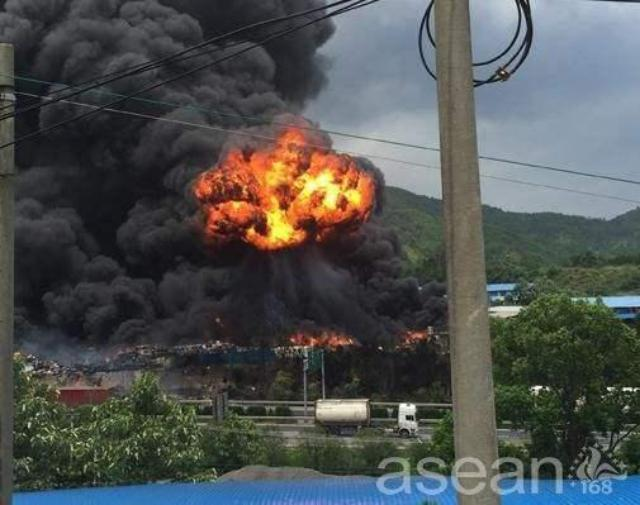fire: (202, 158, 368, 212), (250, 212, 308, 247), (265, 130, 311, 159), (291, 333, 351, 344)
